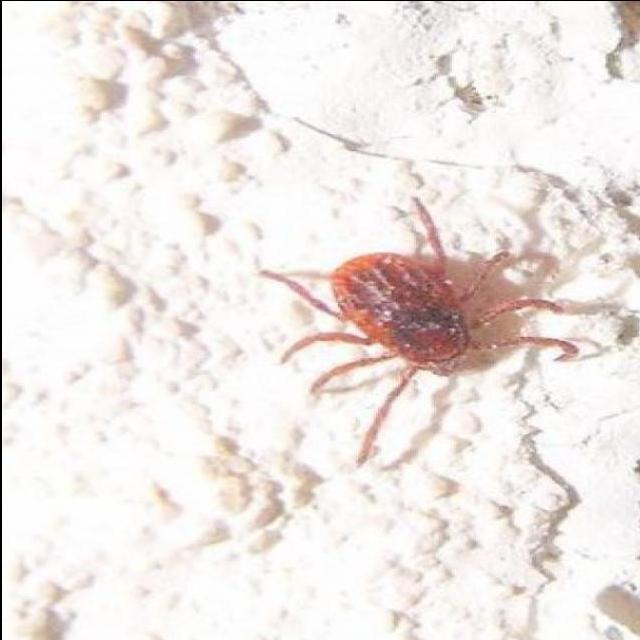Rhipicephalus Sanguineus-F: (256, 196, 599, 465)
